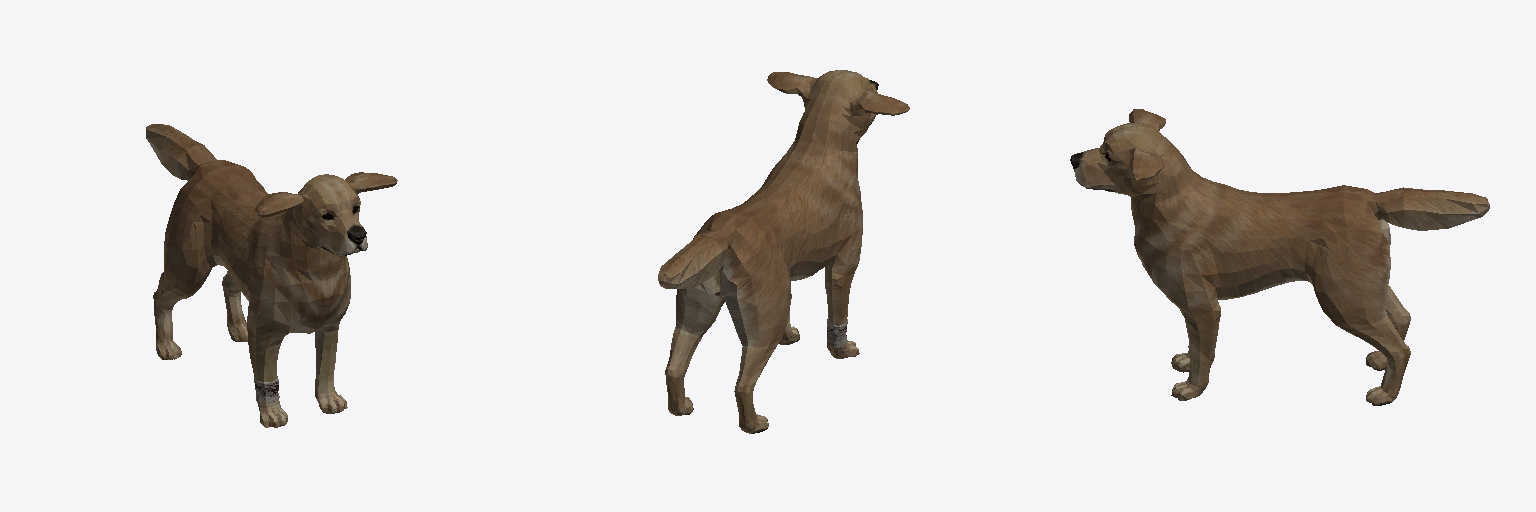
The picture shows the model from 3 angles: view 1: azimuth 30°, elevation 25°; view 2: azimuth 150°, elevation 25°; view 3: azimuth 270°, elevation 25°; orthographic projection.
Parts seen in each view (by area): view 1: Mesh_0326; view 2: Mesh_0326; view 3: Mesh_0326.
Part boxes in pixels (x1,y1,x2,y2): Mesh_0326: (146,124,397,427); Mesh_0326: (658,70,909,433); Mesh_0326: (1070,109,1489,405).
Bounding box in the file's own units: 50.64 × 89.46 × 132.
Materials: 1 (1 with a texture image).